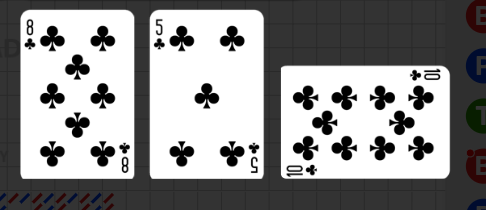10C: (285, 163, 320, 178), (407, 68, 442, 83)
8C: (117, 140, 131, 175)
